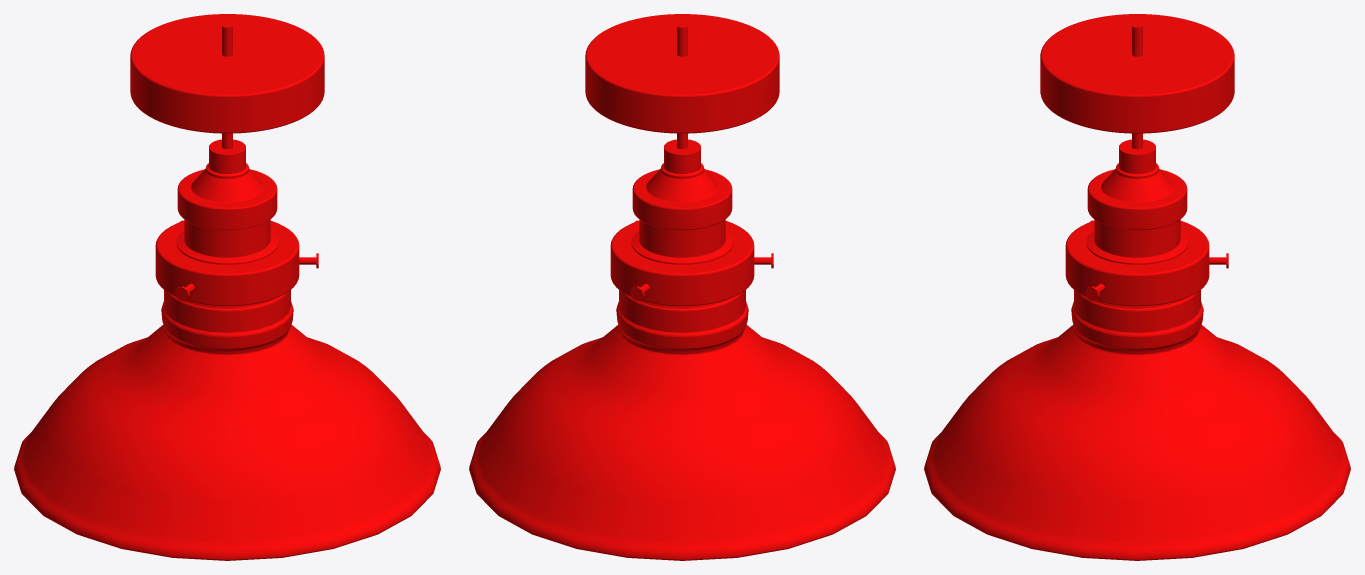
File: Ceiling_Light.fbx
3 renders of one model, left to right at view 1: azimuth 30°, elevation 25°; view 2: azimuth 150°, elevation 25°; view 3: azimuth 270°, elevation 25°, orthographic.
Visible parts, largest first — view 1: CL_Skirt, CL_Top, CL_Hanger, CL_Choke, CL_Cord; view 2: CL_Skirt, CL_Top, CL_Hanger, CL_Choke, CL_Cord; view 3: CL_Skirt, CL_Top, CL_Hanger, CL_Choke, CL_Cord.
Part boxes in pixels (box(x1,y1,x2,y2)): CL_Skirt: box(14, 290, 440, 560); CL_Top: box(130, 14, 324, 133); CL_Hanger: box(176, 139, 278, 264); CL_Choke: box(155, 221, 299, 306); CL_Cord: box(222, 23, 232, 149); CL_Skirt: box(469, 290, 895, 560); CL_Top: box(585, 14, 779, 133); CL_Hanger: box(631, 139, 733, 264); CL_Choke: box(610, 221, 754, 306); CL_Cord: box(677, 23, 687, 149); CL_Skirt: box(924, 290, 1350, 560); CL_Top: box(1040, 14, 1234, 133); CL_Hanger: box(1086, 139, 1188, 264); CL_Choke: box(1065, 221, 1209, 306); CL_Cord: box(1132, 23, 1142, 149).
Bounding box in the file's own units: 37.68 × 49.17 × 37.68.
